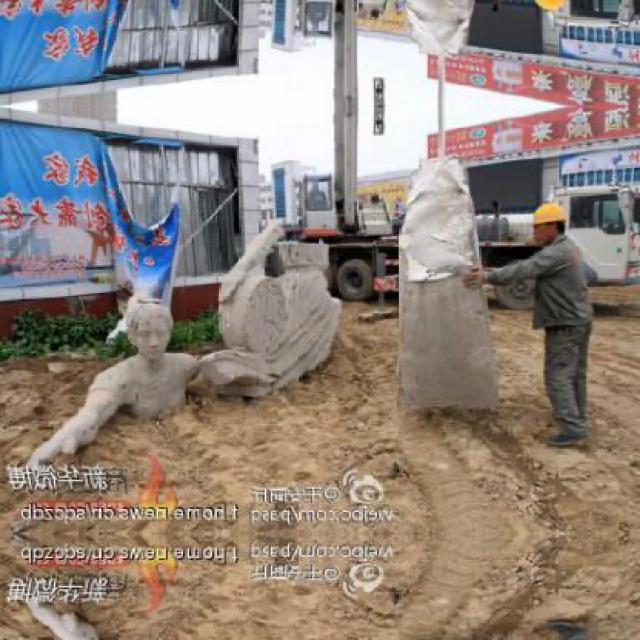helmet: (528, 194, 574, 247), (526, 0, 574, 20)
